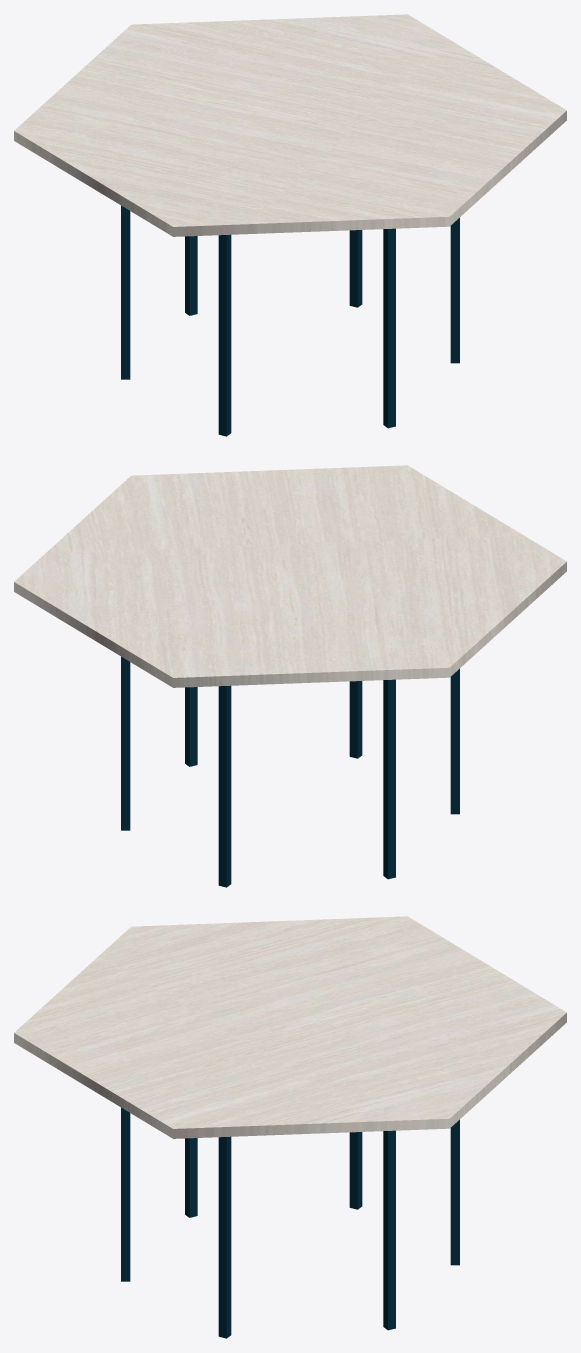
The model's file is CK-zhuozi0002-CJBZ.FBX.
3 renders of one model, top to bottom at view 1: azimuth 30°, elevation 25°; view 2: azimuth 150°, elevation 25°; view 3: azimuth 270°, elevation 25°, orthographic.
Parts seen in each view (by area): view 1: CK-zhuozi0002-CJBZ; view 2: CK-zhuozi0002-CJBZ; view 3: CK-zhuozi0002-CJBZ.
Boxes of the visible parts, x1,y1,x2,y2 form: CK-zhuozi0002-CJBZ: [14, 14, 566, 436]; CK-zhuozi0002-CJBZ: [14, 465, 566, 887]; CK-zhuozi0002-CJBZ: [14, 916, 566, 1338].
Size of the model in its own units: 1.58 by 0.8648 by 1.74.
2 materials, 1 textured.
